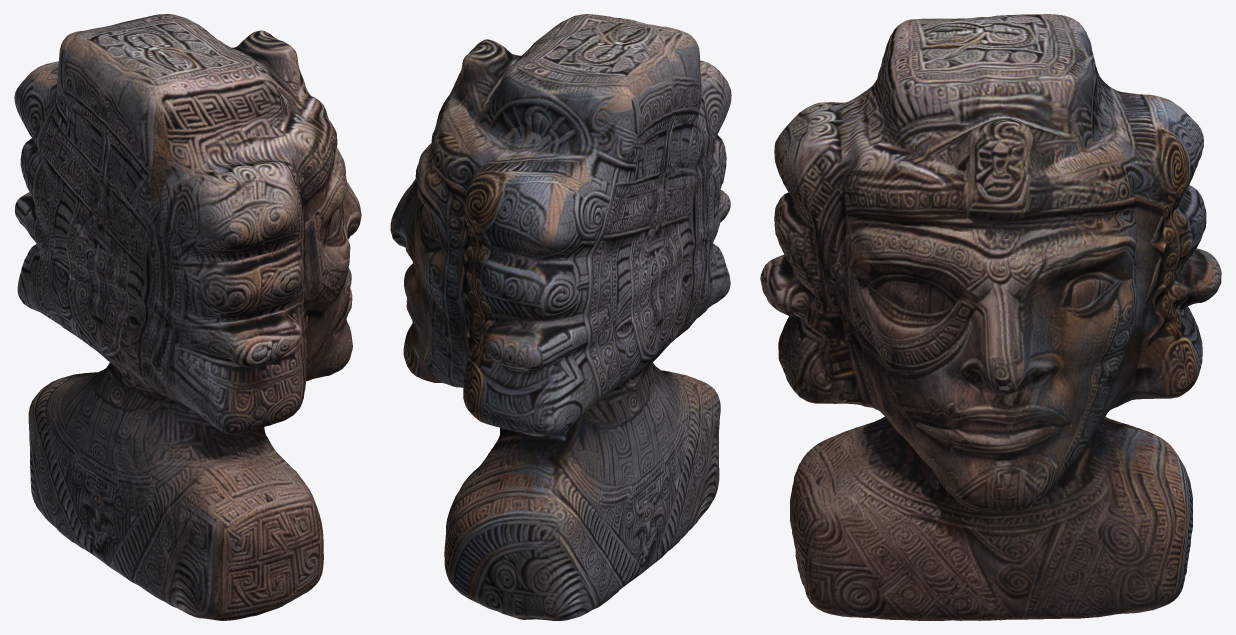
Rendered from aztec.glb.
The picture shows the model from 3 angles, left to right: view 1: azimuth 30°, elevation 25°; view 2: azimuth 150°, elevation 25°; view 3: azimuth 270°, elevation 25°; orthographic projection. The views are drawn at different scales.
Parts seen in each view (by area): view 1: Mesh_0_Material_0_0; view 2: Mesh_0_Material_0_0; view 3: Mesh_0_Material_0_0.
Boxes of the visible parts, left/top/right/bottom form: Mesh_0_Material_0_0: left=14, top=14, right=361, bottom=620; Mesh_0_Material_0_0: left=390, top=14, right=731, bottom=620; Mesh_0_Material_0_0: left=760, top=14, right=1221, bottom=620.
Size of the model in its own units: 0.647 by 1.2 by 0.8942.
Materials: 1 (1 with a texture image).
